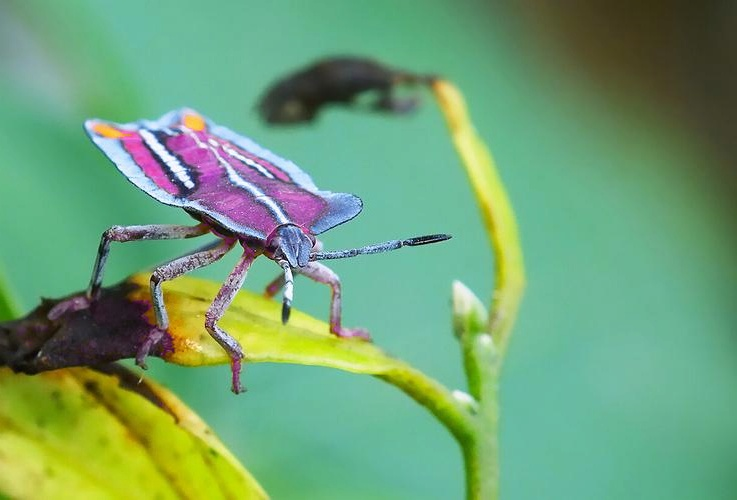Stink_Bug: (100, 96, 327, 293)
